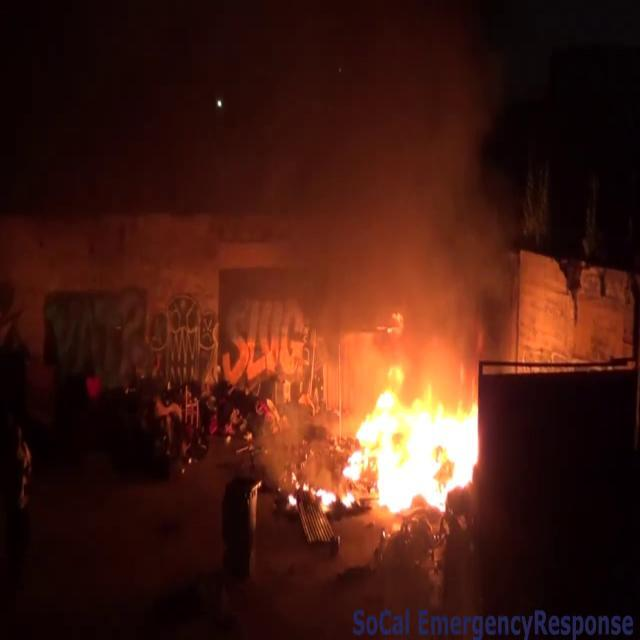Fire: (322, 358, 486, 516)
Smoke: (233, 0, 513, 350)
